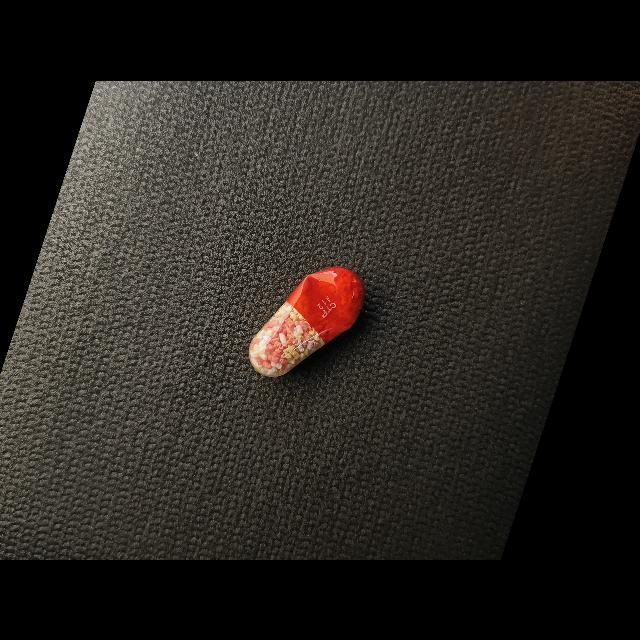Defective Capsule: (249, 266, 365, 377)
